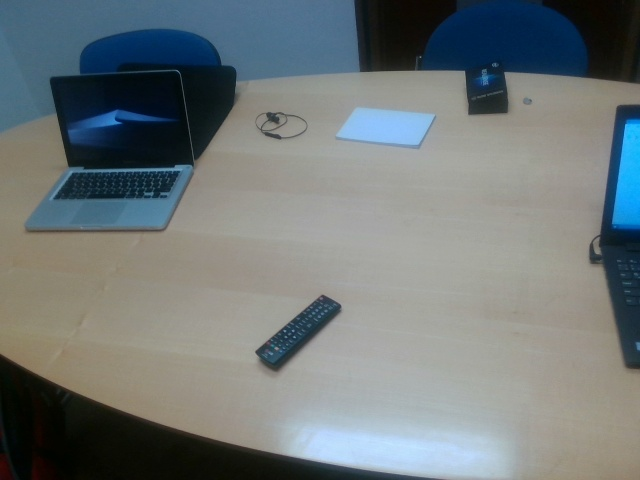remote: (255, 294, 341, 371)
